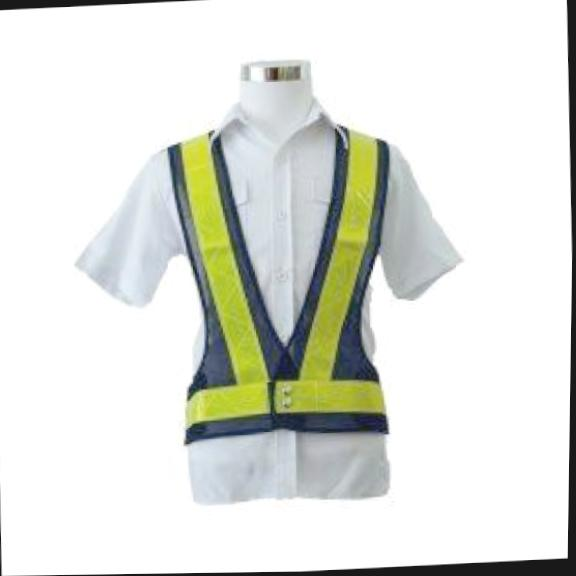safety_vest: (157, 104, 401, 445)
